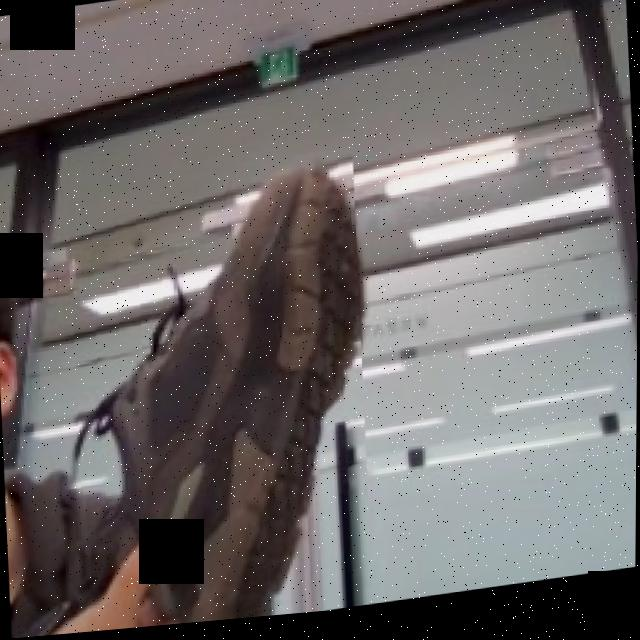shoe: (53, 152, 377, 636)
